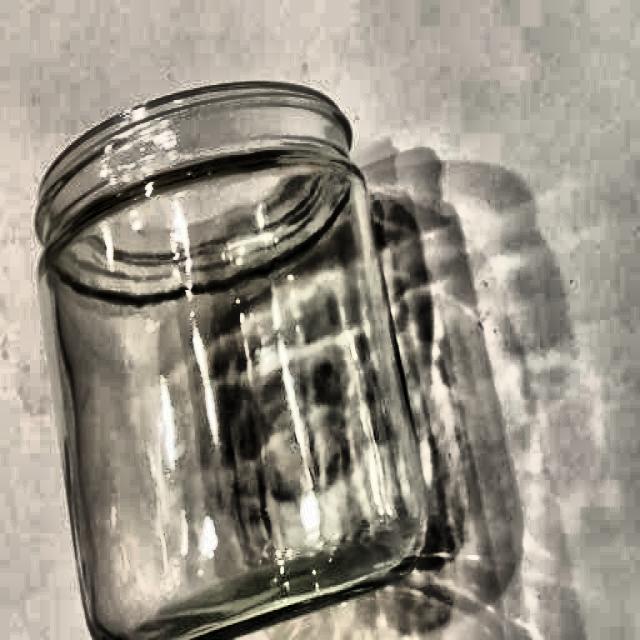glass: (34, 80, 434, 640)
